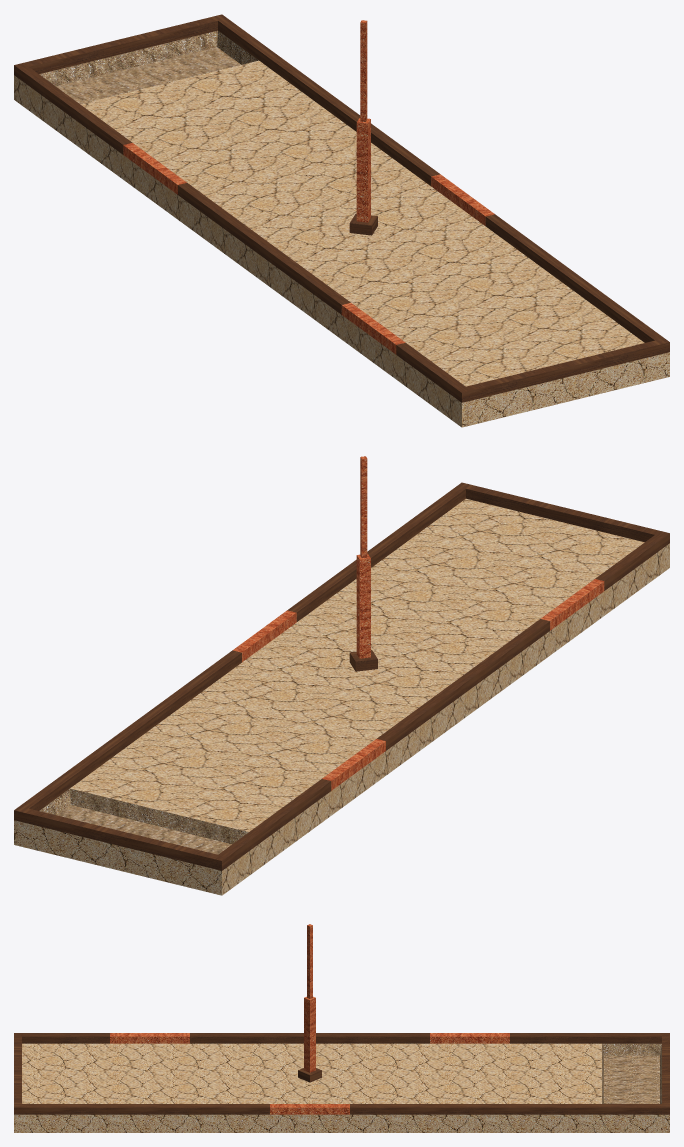
The model's file is Stage2-09.gltf.
3 renders of one model, top to bottom at view 1: azimuth 30°, elevation 25°; view 2: azimuth 150°, elevation 25°; view 3: azimuth 270°, elevation 25°, orthographic. The views are drawn at different scales.
Visible parts, largest first — view 1: Cube.001; view 2: Cube.001; view 3: Cube.001.
Part boxes in pixels (bbox=[...]): Cube.001: bbox=[14, 14, 669, 427]; Cube.001: bbox=[14, 456, 669, 895]; Cube.001: bbox=[14, 924, 669, 1132].
Bounding box in the file's own units: 4.4 × 4.7 × 16.4.
8 materials, 8 textured.
